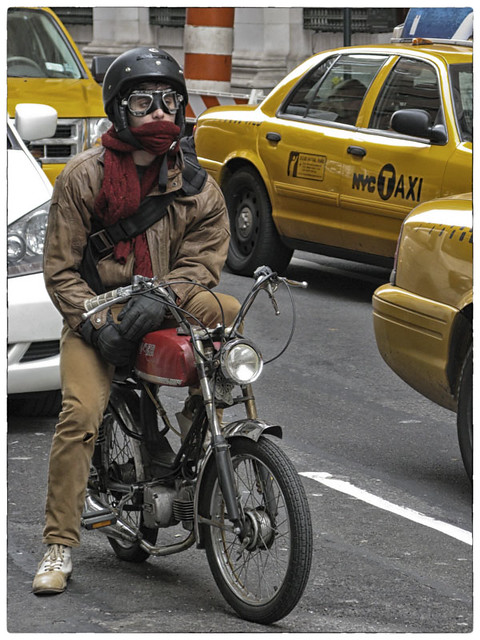helmet: (101, 37, 183, 97)
